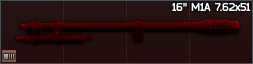M1A 7.62x51 16 inch barrel: (0, 0, 253, 64)
